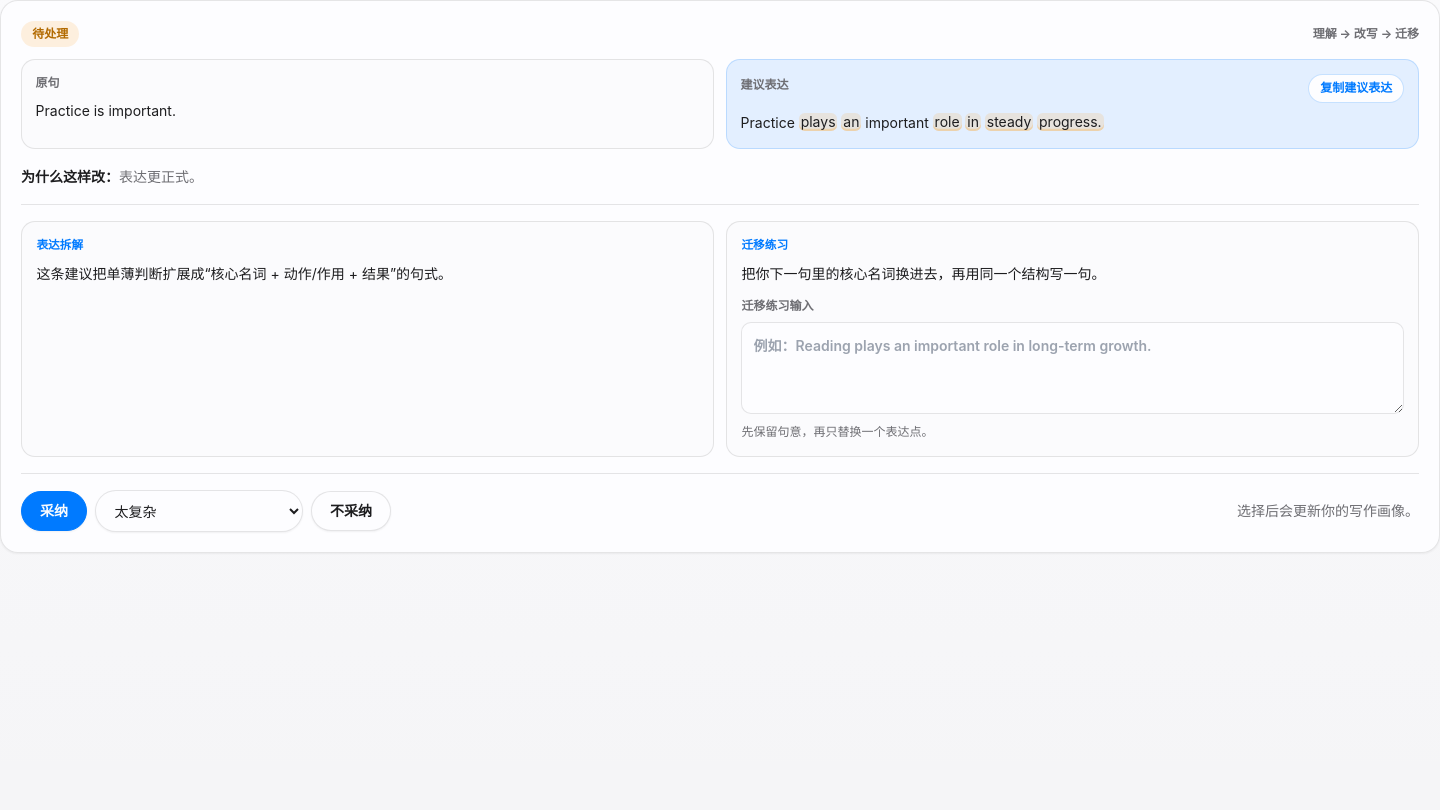
SuggestionCard › reports saved rejection feedback to the parent workflow
Click the button "不采纳".
click(351, 511)  # box [311, 491, 391, 531]
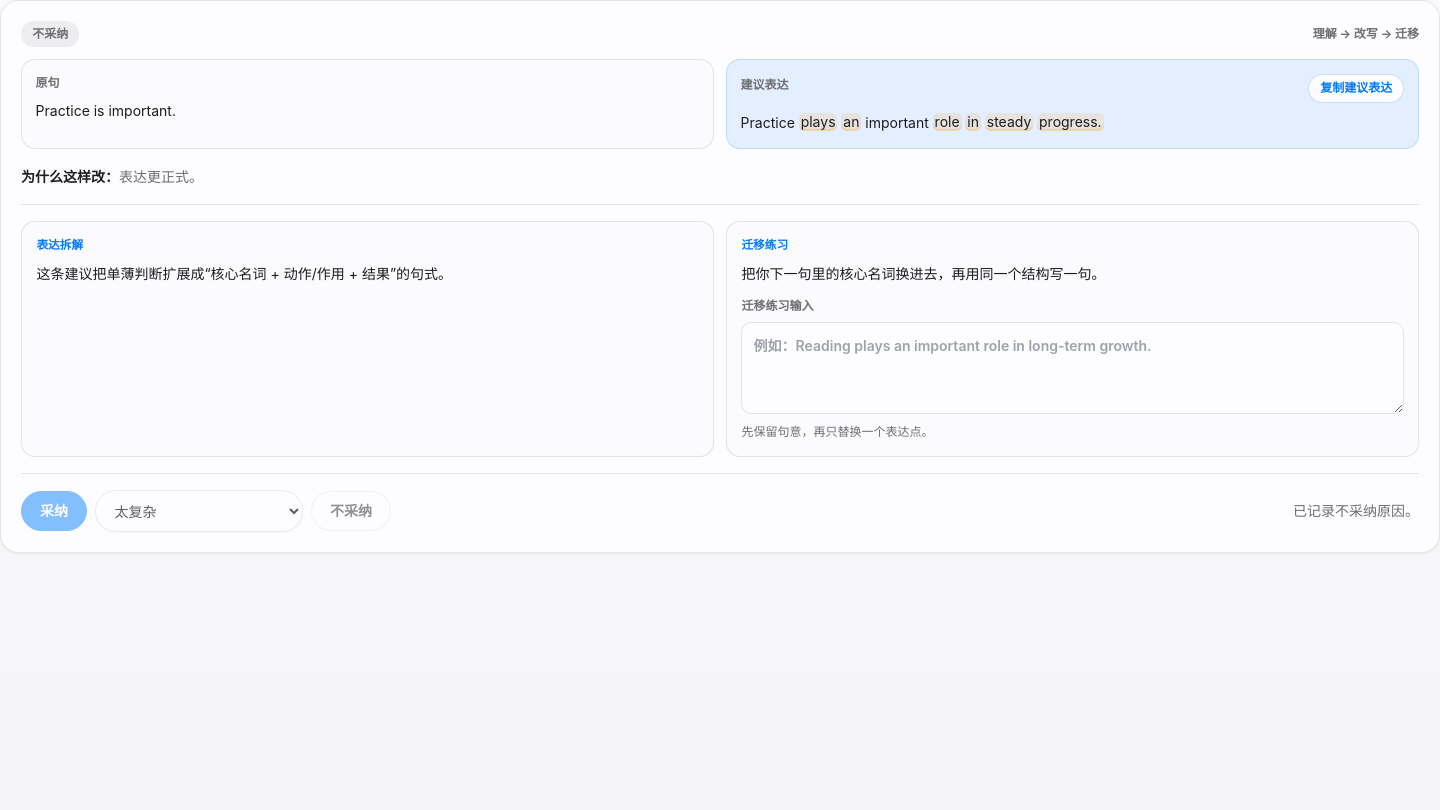
Expected: the message reads "已记录不采纳原因。", [1293, 502, 1419, 519]
